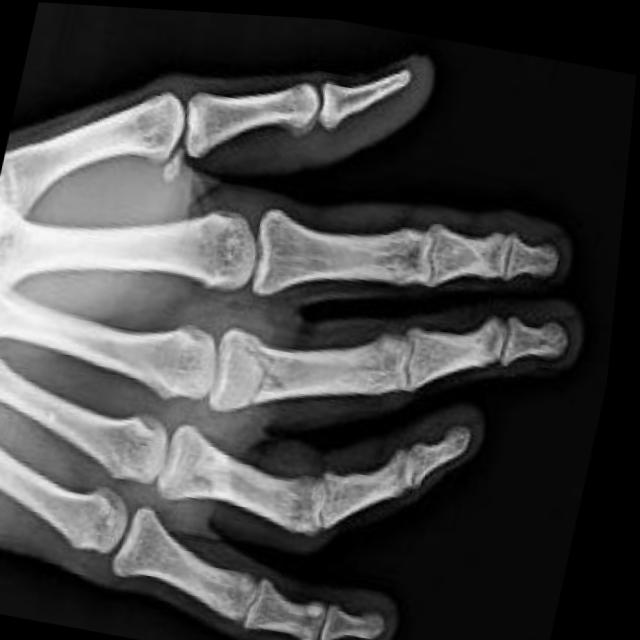fracture: (233, 313, 313, 416)
